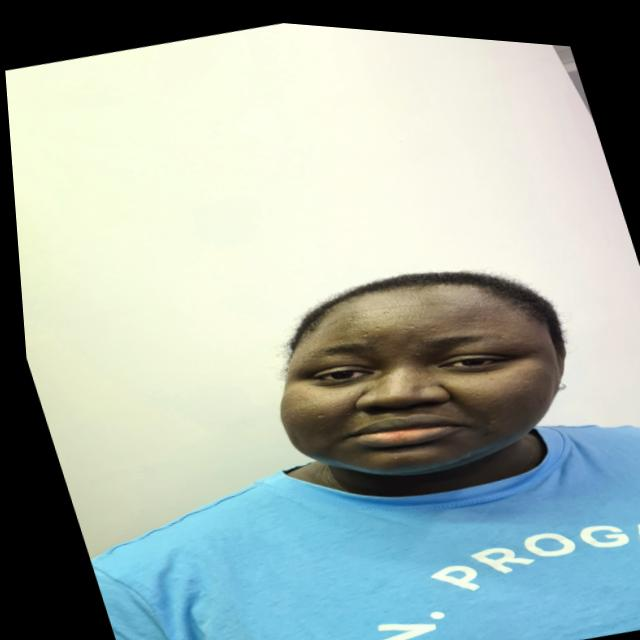sad: (217, 213, 609, 517)
